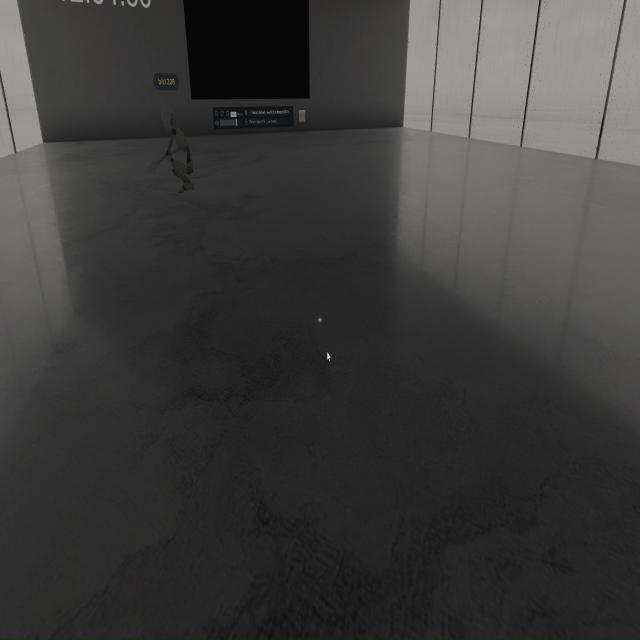human: (143, 81, 200, 204)
